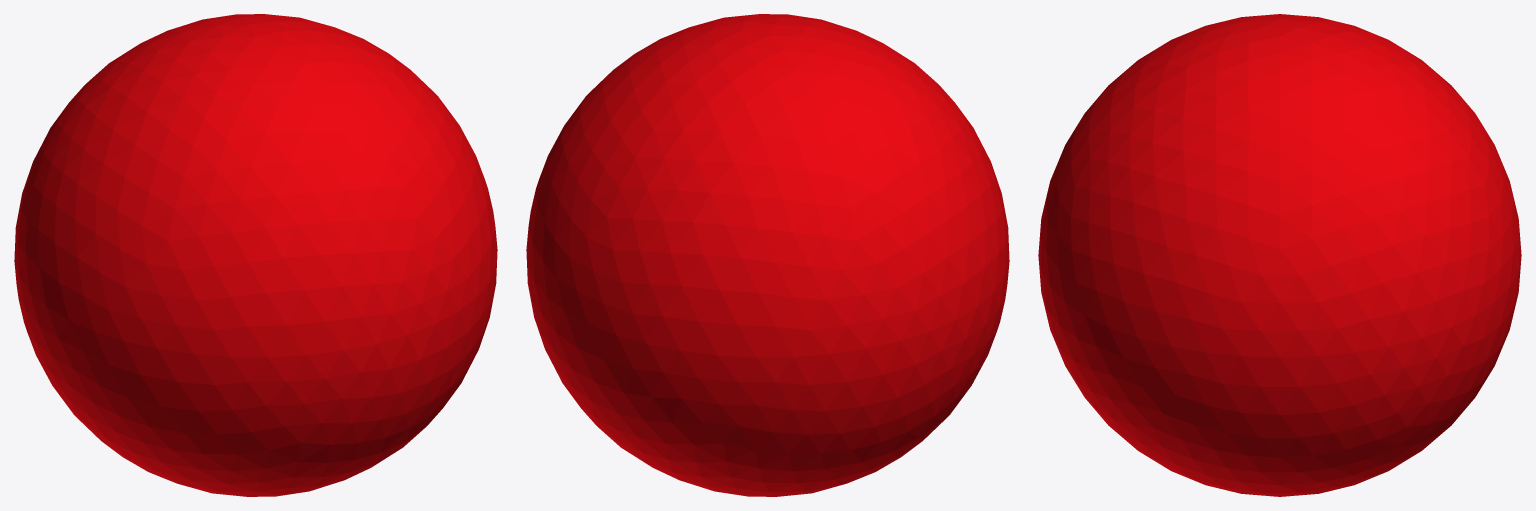
The model's file is golf_ball.glb.
3 renders of one model, left to right at view 1: azimuth 30°, elevation 25°; view 2: azimuth 150°, elevation 25°; view 3: azimuth 270°, elevation 25°, orthographic.
Parts seen in each view (by area): view 1: ball; view 2: ball; view 3: ball.
Part boxes in pixels (box(x1,y1,x2,y2)): ball: box(14, 14, 497, 496); ball: box(526, 14, 1009, 496); ball: box(1038, 14, 1521, 496).
Bounding box in the file's own units: 0.042 × 0.042 × 0.042.
